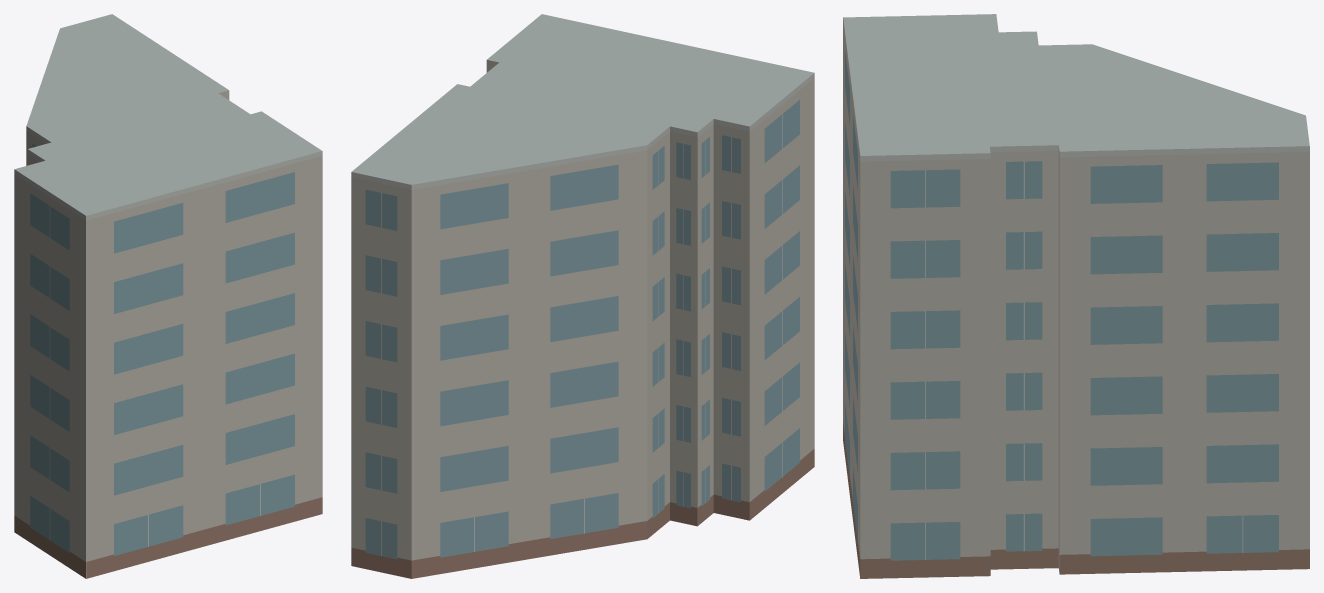
Rendered from survey-upis-32728915.glb.
3 views of the same model, side by side, from view 1: azimuth 30°, elevation 25°; view 2: azimuth 150°, elevation 25°; view 3: azimuth 270°, elevation 25° (orthographic). The views are drawn at different scales.
Visible parts, largest first — view 1: survey-upis-32728915.tmp; view 2: survey-upis-32728915.tmp; view 3: survey-upis-32728915.tmp.
Part boxes in pixels (x1=…): survey-upis-32728915.tmp: x1=14, y1=14, x2=322, y2=578; survey-upis-32728915.tmp: x1=351, y1=14, x2=814, y2=578; survey-upis-32728915.tmp: x1=843, y1=14, x2=1309, y2=578.
Bounding box in the file's own units: 13.19 × 18.3 × 18.32.
